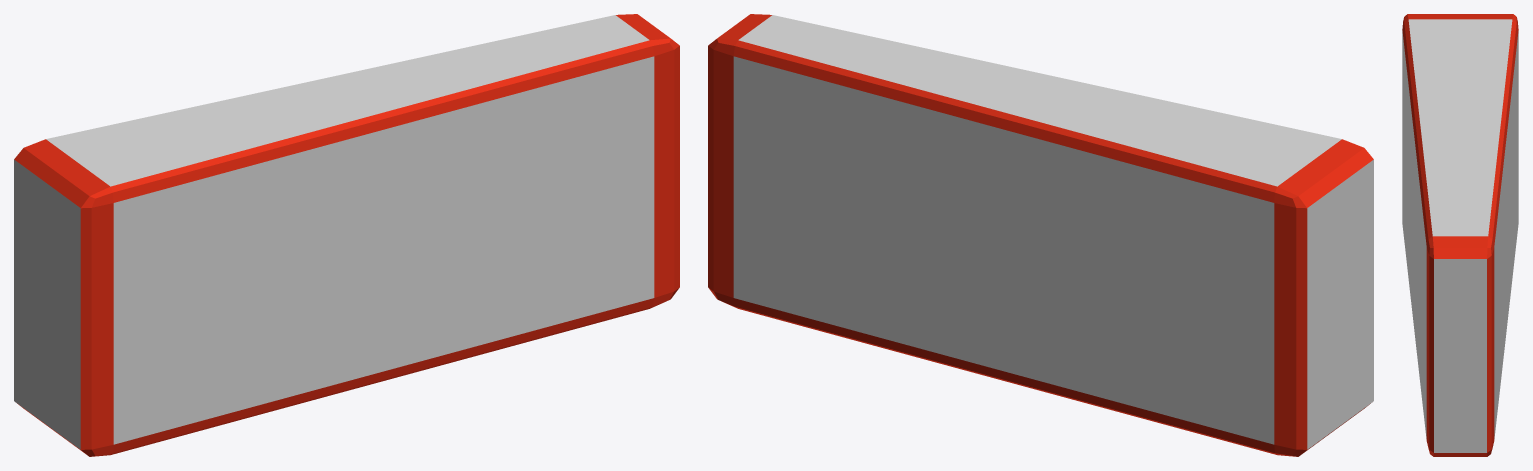
The model's file is Flipper.fbx.
The picture shows the model from 3 angles, left to right: view 1: azimuth 30°, elevation 25°; view 2: azimuth 150°, elevation 25°; view 3: azimuth 270°, elevation 25°; orthographic projection. The views are drawn at different scales.
Parts seen in each view (by area): view 1: Flipper; view 2: Flipper; view 3: Flipper.
Boxes of the visible parts, left/top/right/bottom form: Flipper: left=14, top=14, right=679, bottom=456; Flipper: left=708, top=14, right=1373, bottom=456; Flipper: left=1402, top=14, right=1518, bottom=456.
Bounding box in the file's own units: 240 × 100 × 48.89.
